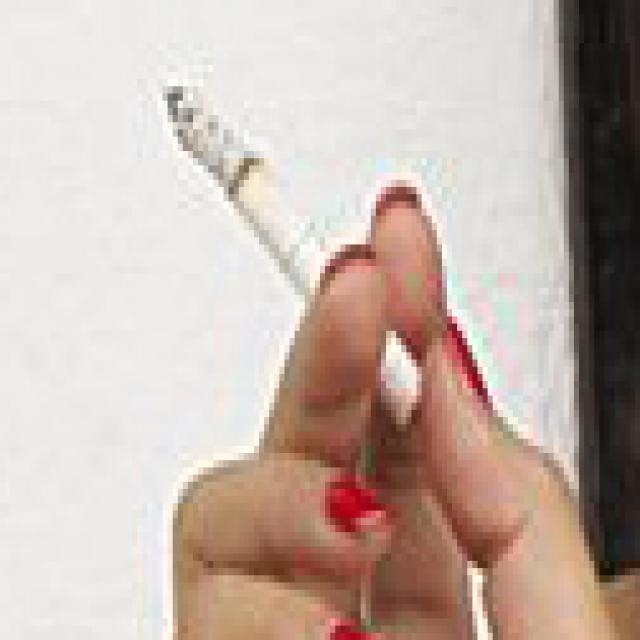smoking: (163, 88, 423, 419)
